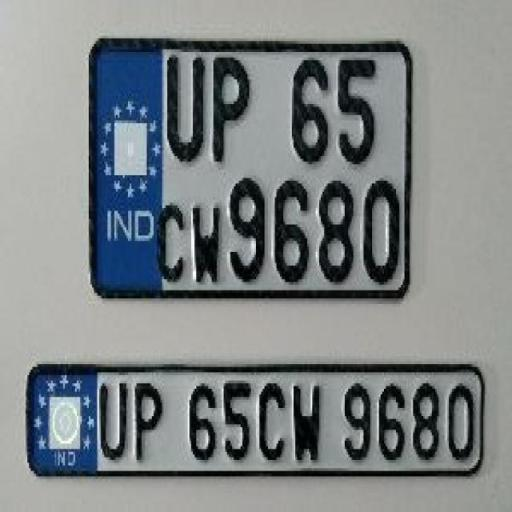number plate: (90, 40, 415, 297), (28, 359, 487, 476)
